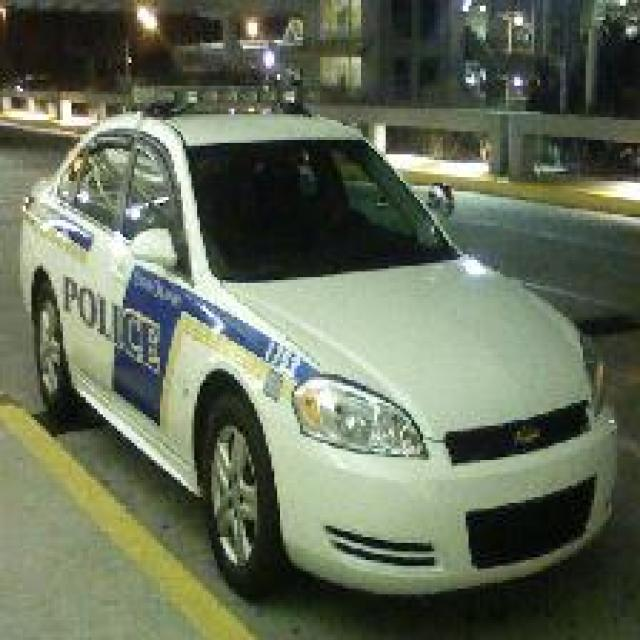Police-car: (14, 89, 620, 600)
